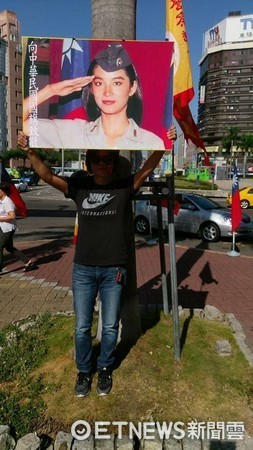handsup: (14, 125, 186, 403)
